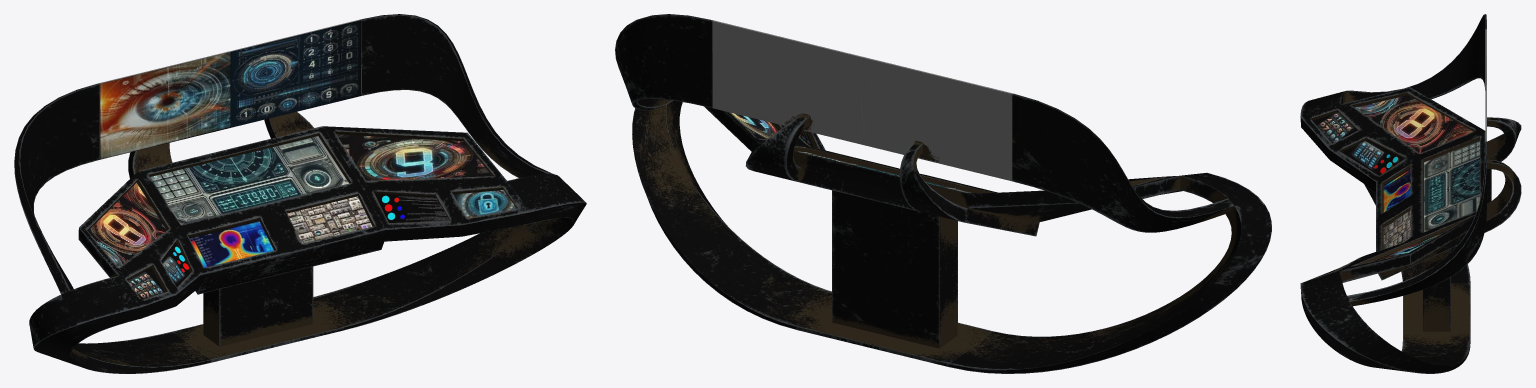
File: terminal_computer_imaginary.glb
3 views of the same model, side by side, from view 1: azimuth 30°, elevation 25°; view 2: azimuth 150°, elevation 25°; view 3: azimuth 270°, elevation 25° (orthographic). The views are drawn at different scales.
Parts seen in each view (by area): view 1: Object_2, Object_3; view 2: Object_2, Object_3; view 3: Object_2, Object_3.
Boxes of the visible parts, x1,y1,x2,y2 form: Object_2: (14,14,586,373); Object_3: (88,20,516,299); Object_2: (615,14,1271,373); Object_3: (731,113,971,192); Object_2: (1300,14,1521,373); Object_3: (1313,95,1479,260).
Bounding box in the file's own units: 791 × 364 × 319.
2 materials, 2 textured.
